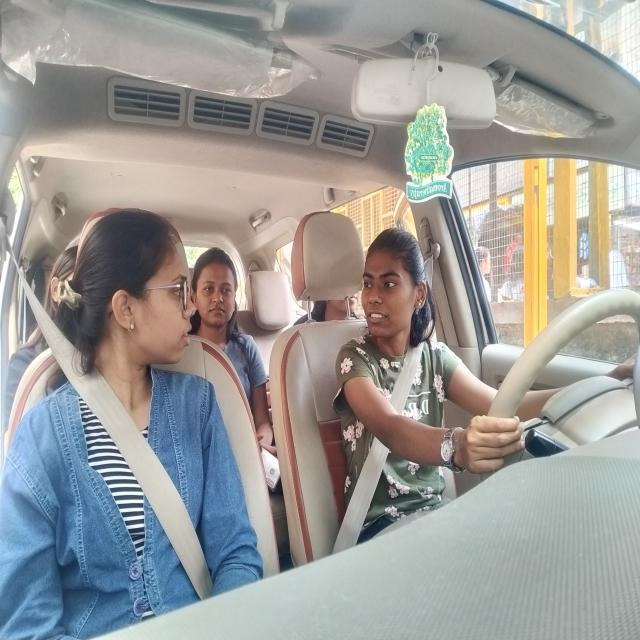LeftRight: (356, 224, 426, 356)
person: (72, 204, 200, 362), (195, 247, 242, 336), (49, 239, 75, 319), (324, 288, 362, 322)
talking: (364, 312, 396, 329), (178, 323, 196, 351)
